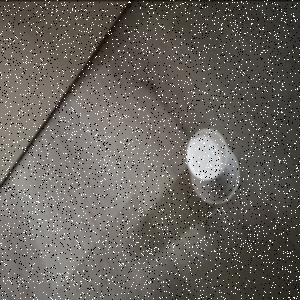Cup: (187, 127, 243, 207)
